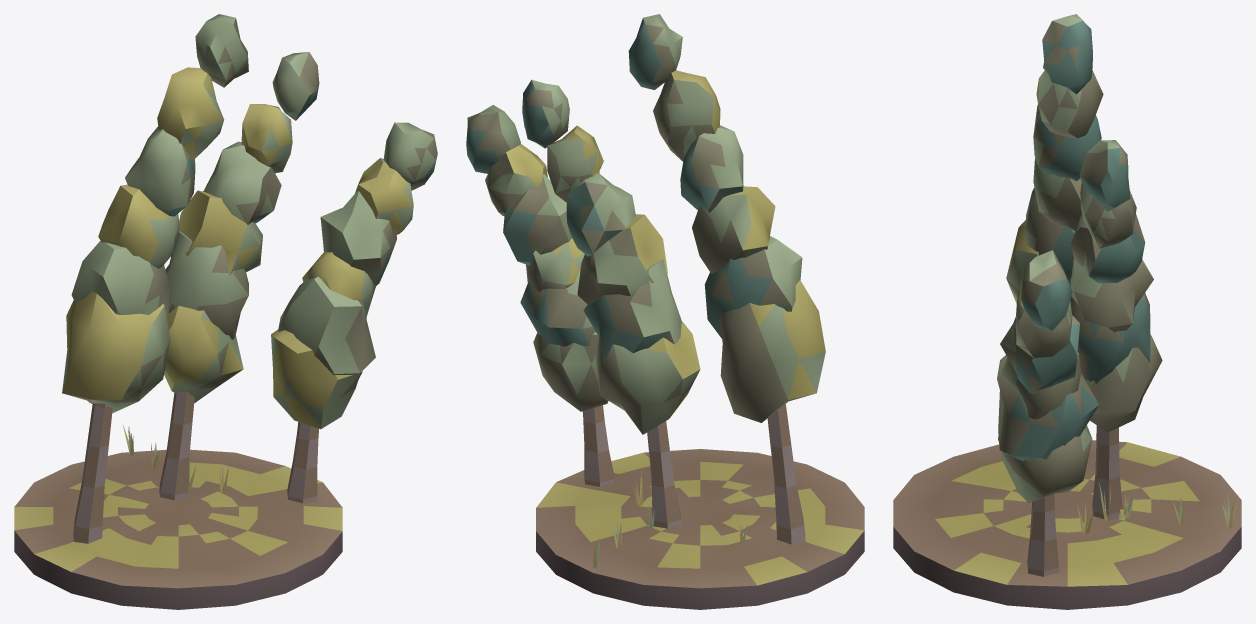
Rendered from pastoral_trees_v2.glb.
3 views of the same model, side by side, from view 1: azimuth 30°, elevation 25°; view 2: azimuth 150°, elevation 25°; view 3: azimuth 270°, elevation 25° (orthographic). The views are drawn at different scales.
Parts seen in each view (by area): view 1: Body; view 2: Body; view 3: Body.
Boxes of the visible parts, <box> form: Body: <box>14,14,437,609</box>; Body: <box>466,14,864,609</box>; Body: <box>893,14,1241,609</box>.
Bounding box in the file's own units: 0.5911 × 0.7418 × 0.4326.
